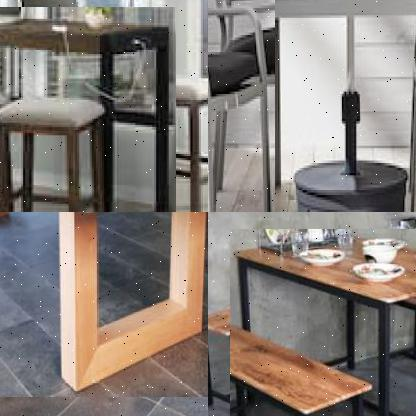table: (0, 212, 207, 400), (0, 7, 176, 211), (228, 229, 415, 415), (274, 0, 415, 211)
